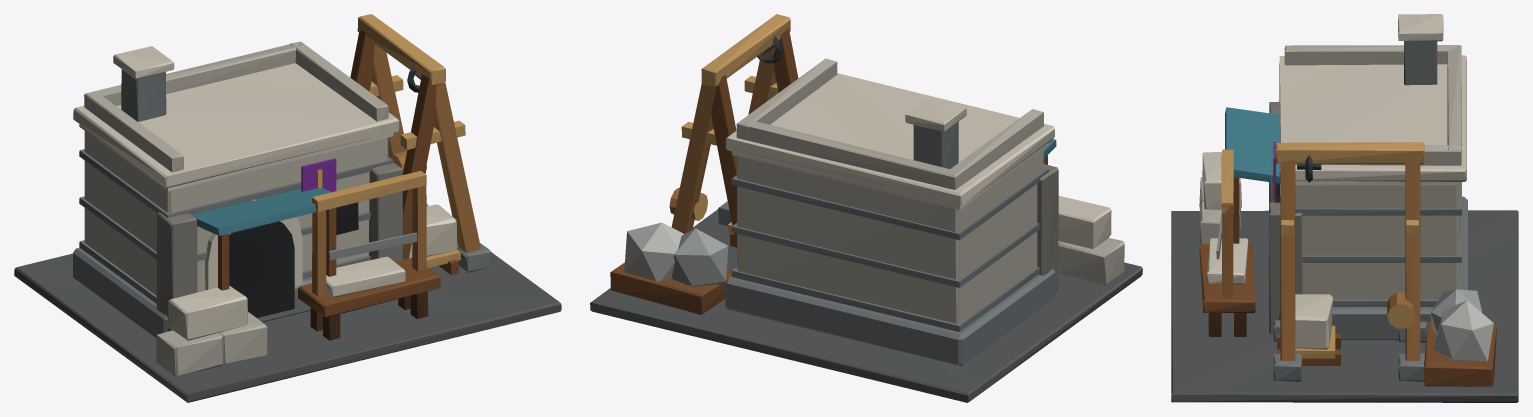
3 renders of one model, left to right at view 1: azimuth 30°, elevation 25°; view 2: azimuth 150°, elevation 25°; view 3: azimuth 270°, elevation 25°, orthographic.
Visible parts, largest first — view 1: WK_CityStoneworks_LOD2_Compact; view 2: WK_CityStoneworks_LOD2_Compact; view 3: WK_CityStoneworks_LOD2_Compact.
Part boxes in pixels (x1,y1,x2,y2): WK_CityStoneworks_LOD2_Compact: (14, 14, 561, 402); WK_CityStoneworks_LOD2_Compact: (590, 14, 1142, 402); WK_CityStoneworks_LOD2_Compact: (1171, 14, 1518, 402).
Size of the model in its own units: 9 by 5.39 by 7.17.
